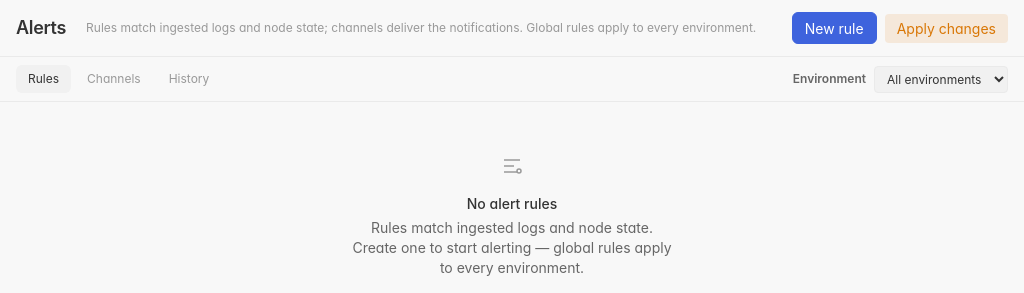
Test: AlertsPage › switches to the channels tab and lists channels
Click the tab "Channels" at (114, 79), box [75,65,153,93]
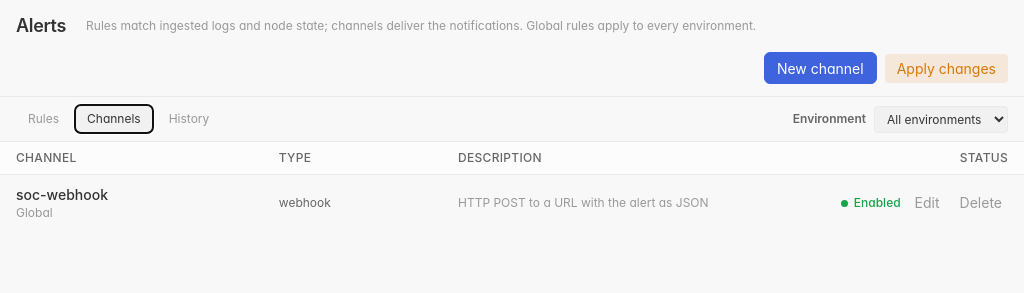
Expected: the text "soc-webhook" is shown, [16,186,108,203]
Expected: the text "HTTP POST to a URL with the alert as JSON" is shown, [458,195,709,210]
Expected: the text "Channel" is shown, [16,150,76,165]
